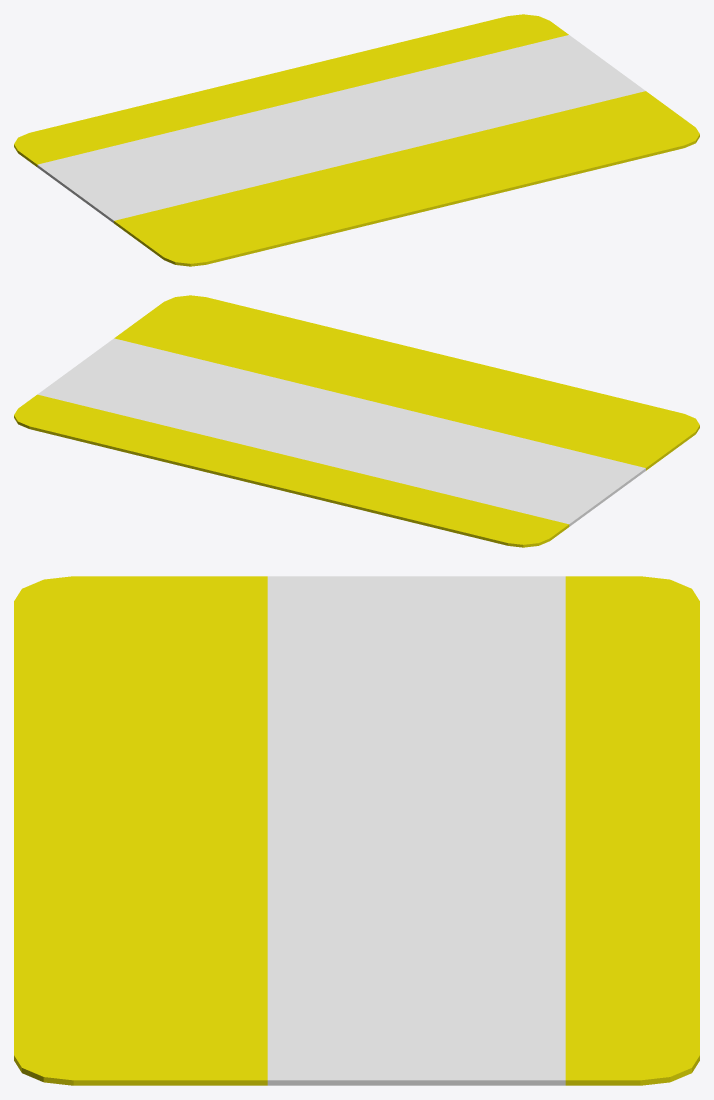
File: KeyCardlvl1.fbx
3 renders of one model, top to bottom at view 1: azimuth 30°, elevation 25°; view 2: azimuth 150°, elevation 25°; view 3: azimuth 270°, elevation 25°, orthographic. The views are drawn at different scales.
Visible parts, largest first — view 1: CardLVL1; view 2: CardLVL1; view 3: CardLVL1.
Boxes of the visible parts, x1,y1,x2,y2 form: CardLVL1: (14, 14, 699, 266); CardLVL1: (14, 295, 699, 547); CardLVL1: (14, 576, 699, 1085).
Size of the model in its own units: 40 by 0.2 by 23.
